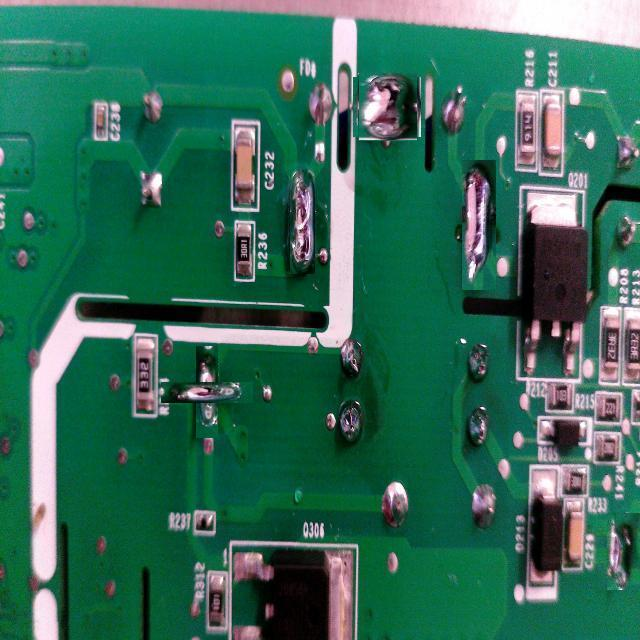Short_circuit: (462, 160, 496, 290), (356, 76, 420, 140), (179, 364, 236, 421), (290, 166, 315, 274), (607, 514, 640, 592)
